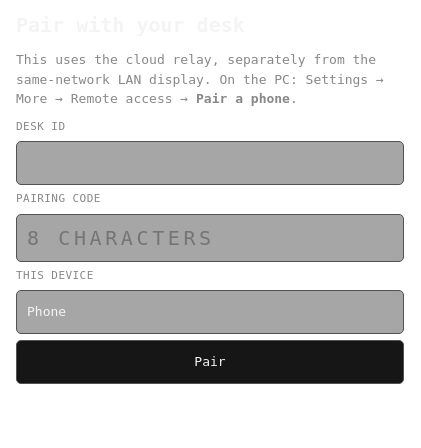
Test case: PairScreen › routes a full phone list to the actual More tab in Settings
Type "desk-42" into the field with test id "pair-desk" at (210, 163), box [16,141,404,185]
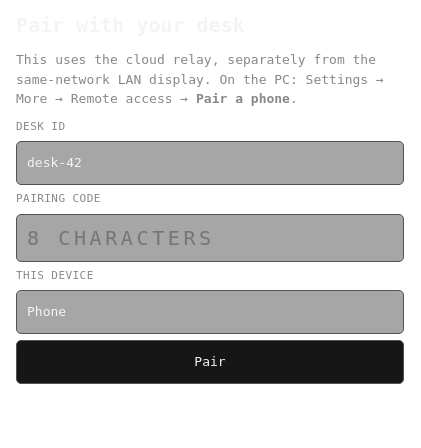
Type "ABCD2345" into the field with test id "pair-code" at (210, 238), box [16,214,404,262]
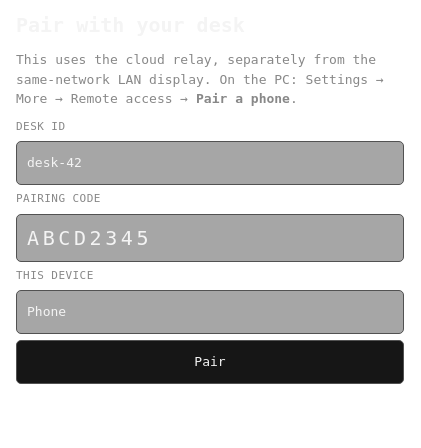
Submit the form with test id "pair-form", box [16,118,404,384]
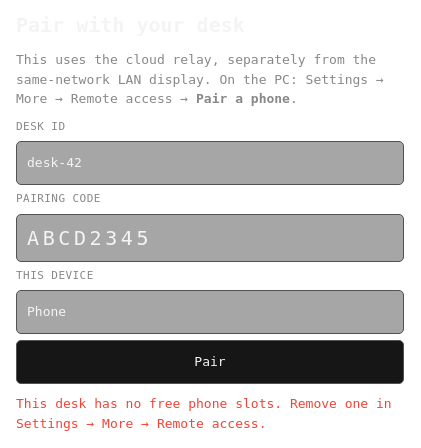
Result: the message with test id "pair-error" shows "Settings → More → Remote access" at [16,396,392,430]
